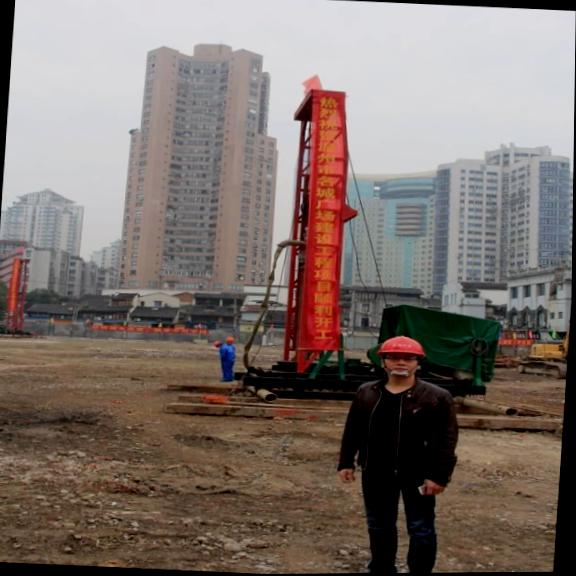no_safety_vest: (331, 377, 465, 498)
